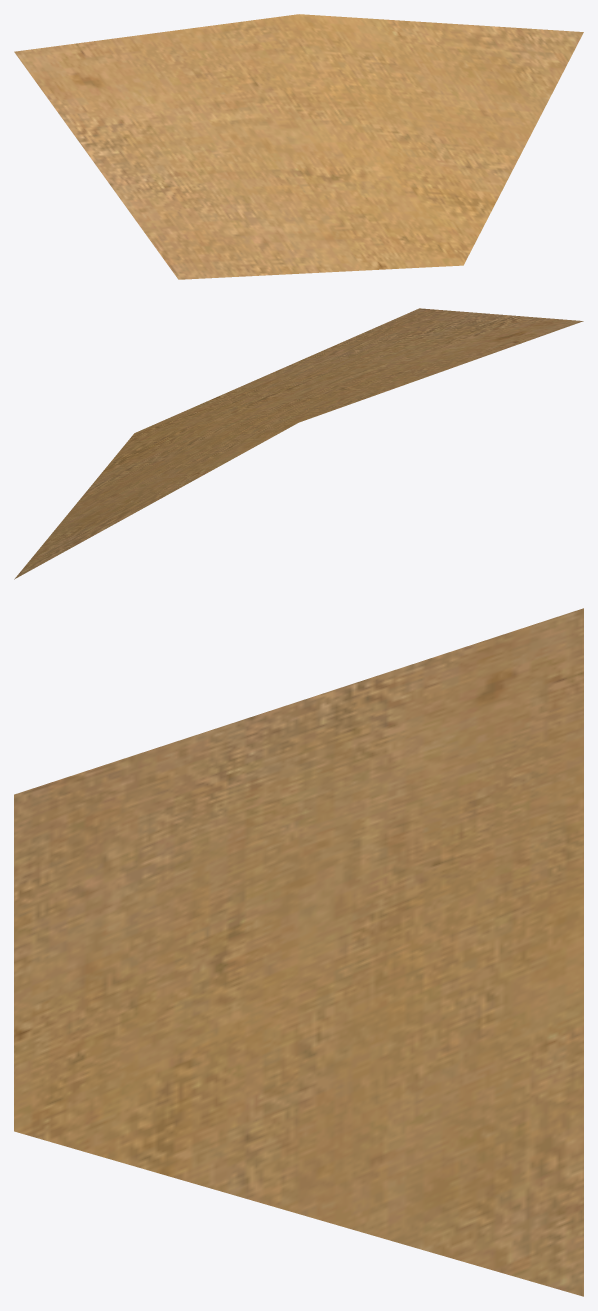
The model's file is M01_ZONE1A_XPatch02.glb.
The picture shows the model from 3 angles, top to bottom: view 1: azimuth 30°, elevation 25°; view 2: azimuth 210°, elevation 25°; view 3: azimuth 270°, elevation 25°; orthographic projection. The views are drawn at different scales.
Parts seen in each view (by area): view 1: M01_ZONE1A_XPATCH02; view 2: M01_ZONE1A_XPATCH02; view 3: M01_ZONE1A_XPATCH02.
Part boxes in pixels (x1,y1,x2,y2): M01_ZONE1A_XPATCH02: (14,14,583,279); M01_ZONE1A_XPATCH02: (14,308,583,579); M01_ZONE1A_XPATCH02: (14,608,583,1296).
Bounding box in the file's own units: 8 × 2.19 × 4.
1 material, 1 textured.
